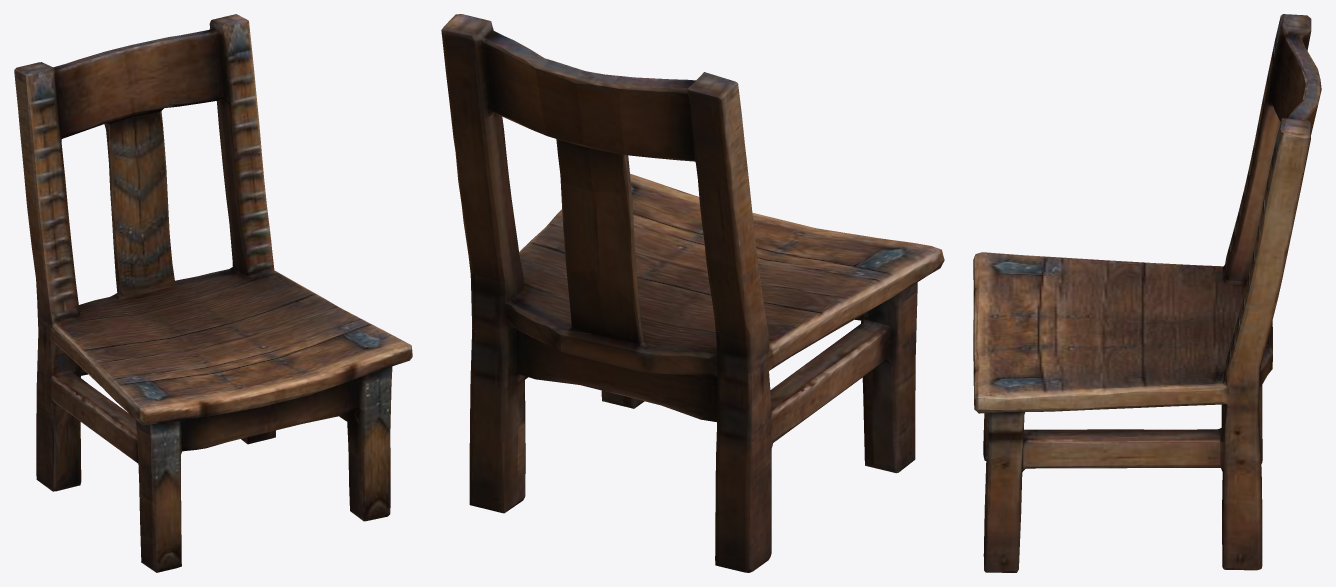
The model's file is chair_simple_b_lod0.glb.
The picture shows the model from 3 angles, left to right: view 1: azimuth 30°, elevation 25°; view 2: azimuth 150°, elevation 25°; view 3: azimuth 270°, elevation 25°; orthographic projection. The views are drawn at different scales.
Parts seen in each view (by area): view 1: chair_simple_b_lod0; view 2: chair_simple_b_lod0; view 3: chair_simple_b_lod0.
Part boxes in pixels (bbox=[...]): chair_simple_b_lod0: bbox=[14, 14, 412, 572]; chair_simple_b_lod0: bbox=[441, 14, 944, 572]; chair_simple_b_lod0: bbox=[973, 14, 1321, 572].
Bounding box in the file's own units: 0.7145 × 0.9992 × 0.7169.
1 material, 1 textured.
